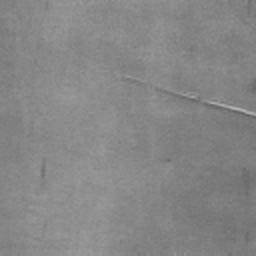Finishing roll printing: (122, 73, 255, 120)
